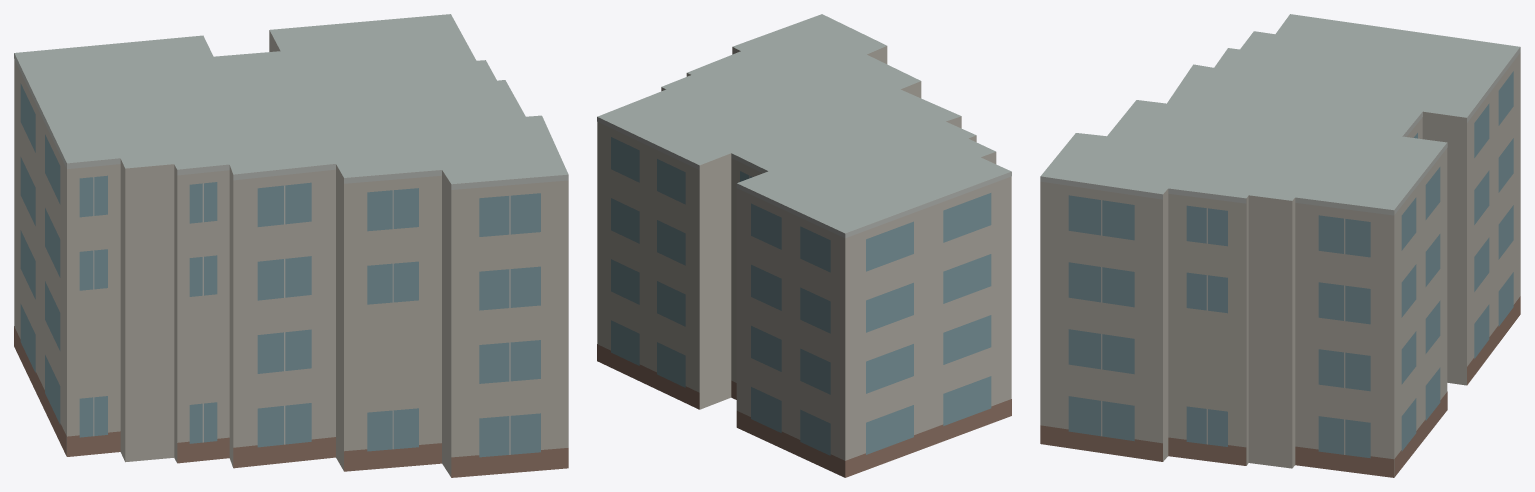
The model's file is survey-upis-32589569.glb.
The picture shows the model from 3 angles, left to right: view 1: azimuth 30°, elevation 25°; view 2: azimuth 150°, elevation 25°; view 3: azimuth 270°, elevation 25°; orthographic projection. The views are drawn at different scales.
Visible parts, largest first — view 1: survey-upis-32589569.tmp; view 2: survey-upis-32589569.tmp; view 3: survey-upis-32589569.tmp.
Part boxes in pixels (bbox=[...]): survey-upis-32589569.tmp: bbox=[14, 14, 568, 477]; survey-upis-32589569.tmp: bbox=[597, 14, 1011, 477]; survey-upis-32589569.tmp: bbox=[1040, 14, 1520, 477].
Size of the model in its own units: 19.42 by 12.35 by 20.08.
